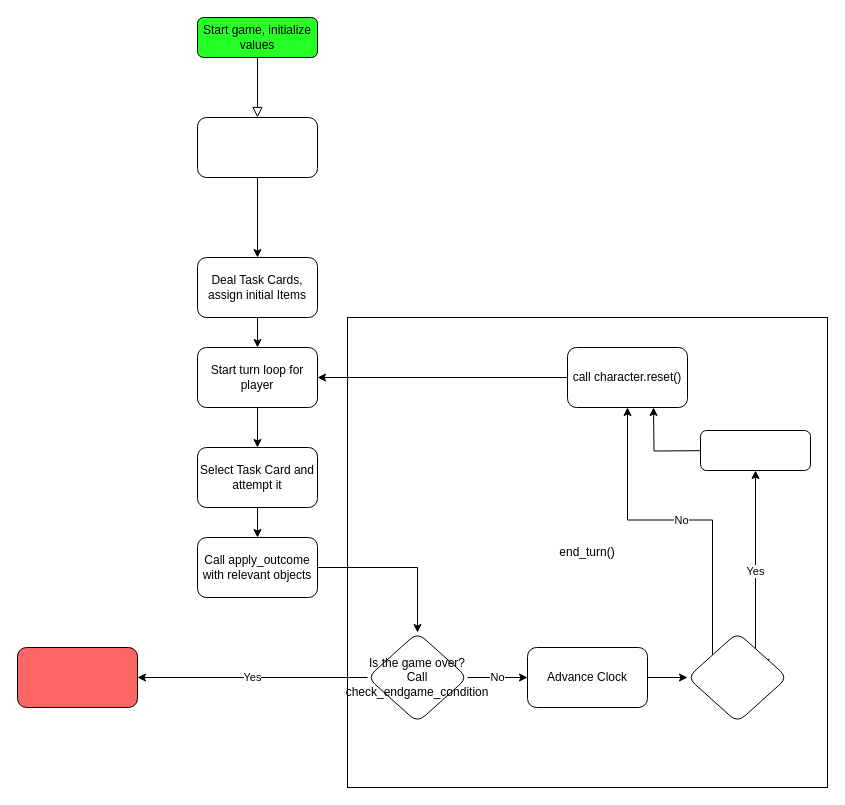
The diagram is 845 pixels wide and 805 high, and some of its shapes have lost their labels. The shapes that lost their labels are listed below. From the top down, each one's centre as x and y in pixels, then its label:
the point at 257,147: Select Great Old One, Select Character
the point at 755,450: call add_doom
the point at 77,677: End Game With appropriate message
the point at 737,677: Is it midnight?
